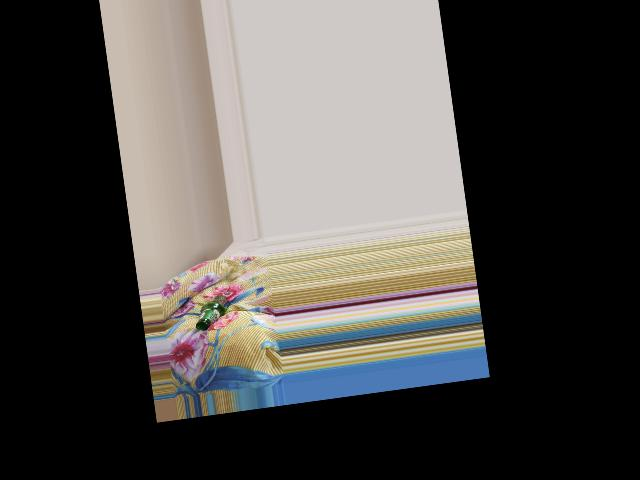beer: (191, 294, 232, 332)
